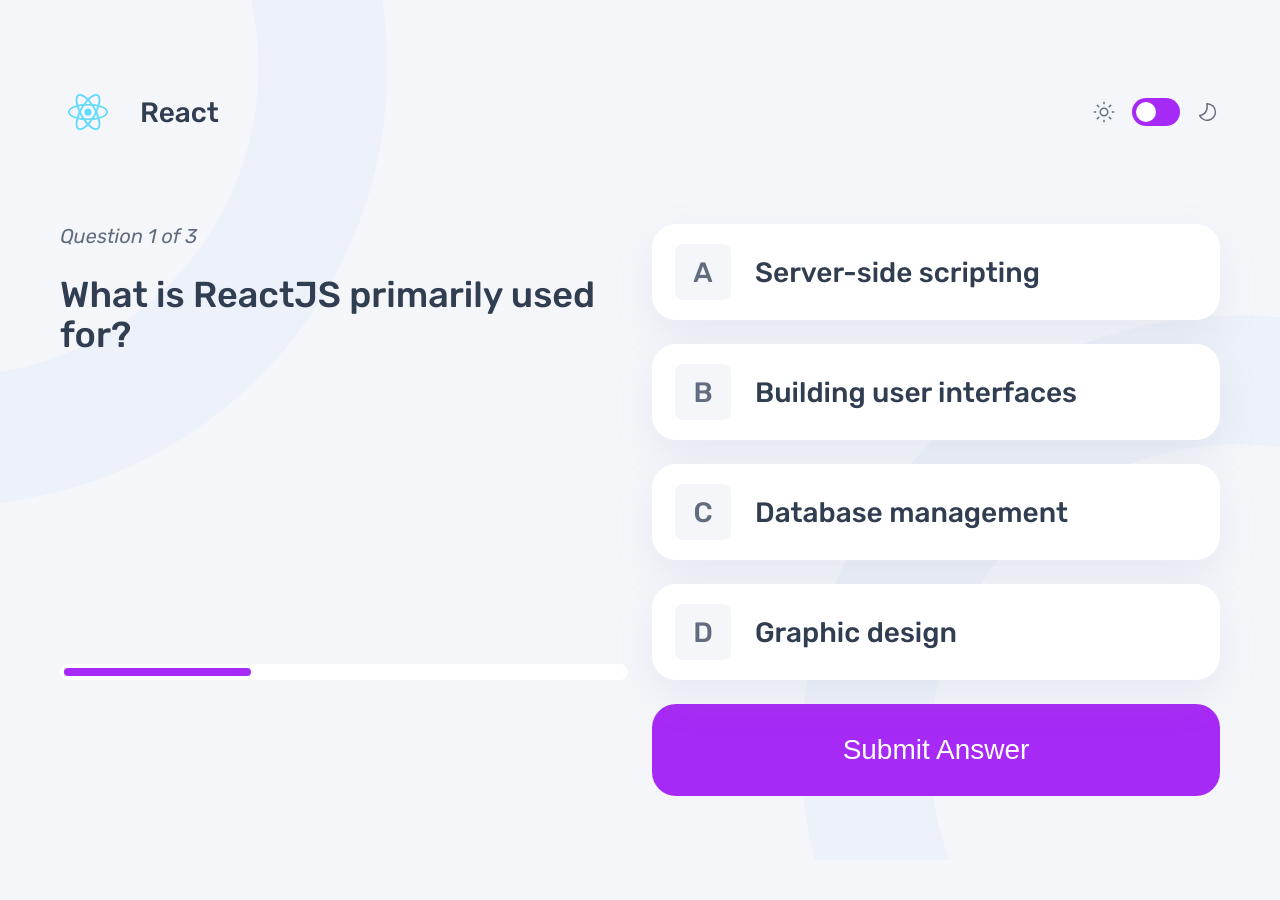
App › Showing error when option wasn't selected
The width and height of the screenshot is (1280, 900).
Expected: the text "Please select an answer" is not shown
Click the button "Submit Answer": point(936, 750) [652, 704, 1220, 796]
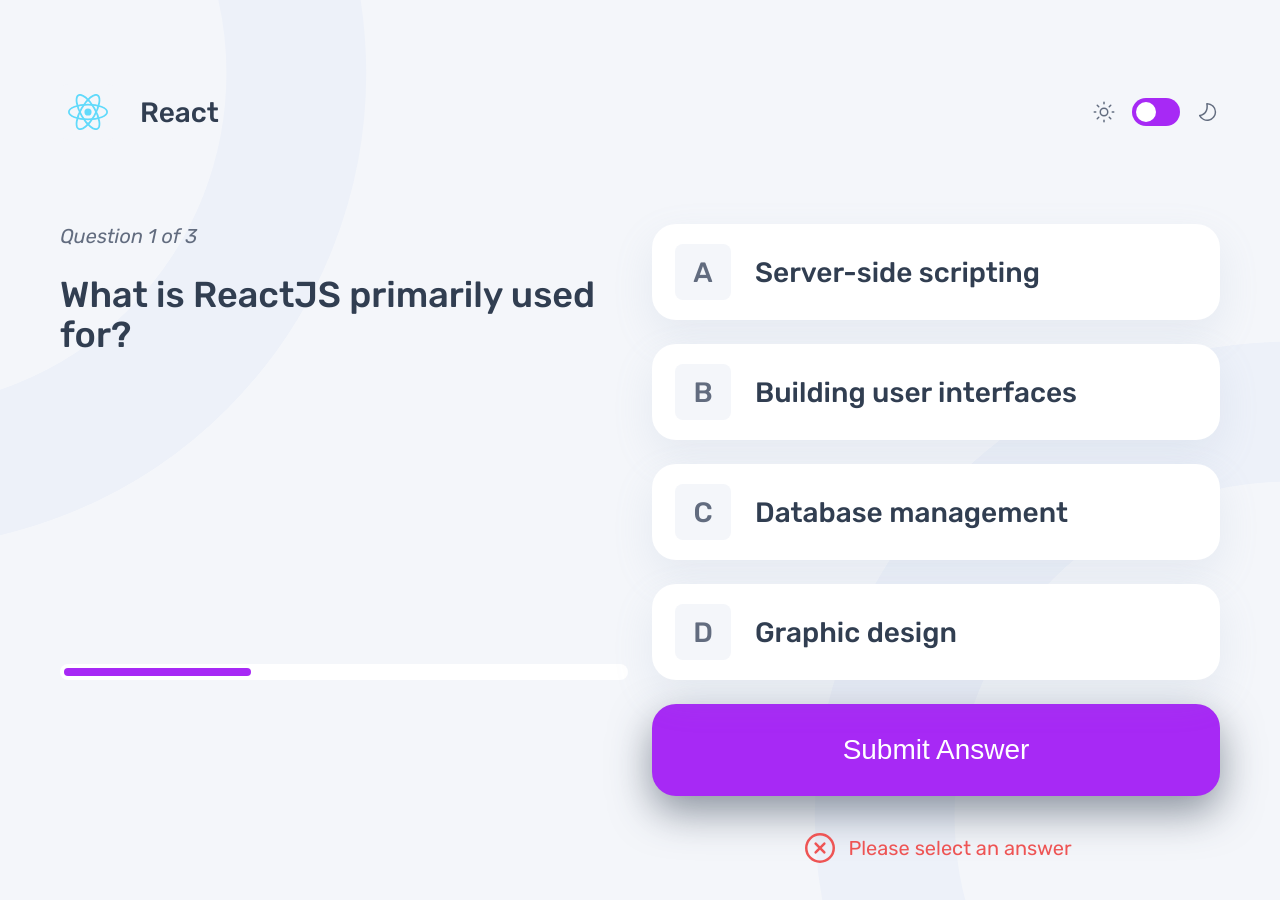
Now the text "Please select an answer" is shown, box [800, 828, 1072, 868]
